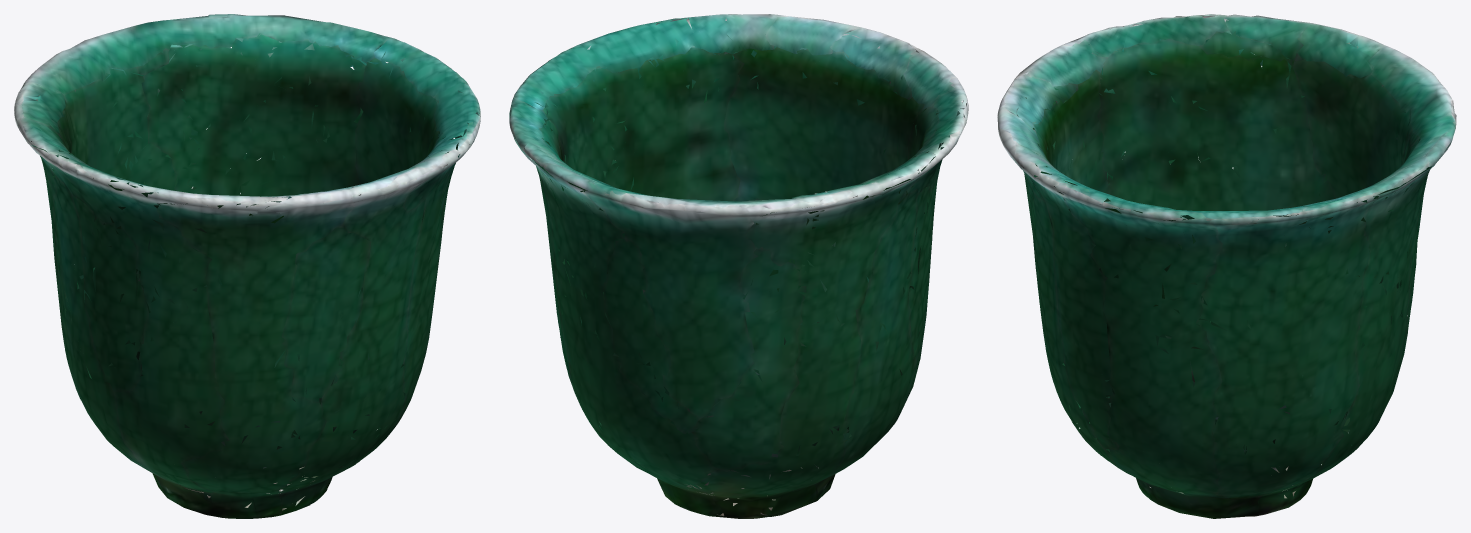
File: hm-crackleware-jar.glb
3 renders of one model, left to right at view 1: azimuth 30°, elevation 25°; view 2: azimuth 150°, elevation 25°; view 3: azimuth 270°, elevation 25°, orthographic.
Parts seen in each view (by area): view 1: Object_2, Object_3; view 2: Object_2, Object_3; view 3: Object_2, Object_3.
Boxes of the visible parts, x1,y1,x2,y2 form: Object_2: (14,33,480,518); Object_3: (14,14,480,518); Object_2: (509,14,968,516); Object_3: (509,14,967,518); Object_2: (997,14,1450,518); Object_3: (1015,15,1456,510).
Bounding box in the file's own units: 0.1165 × 0.1059 × 0.1159.
1 material, 1 textured.
